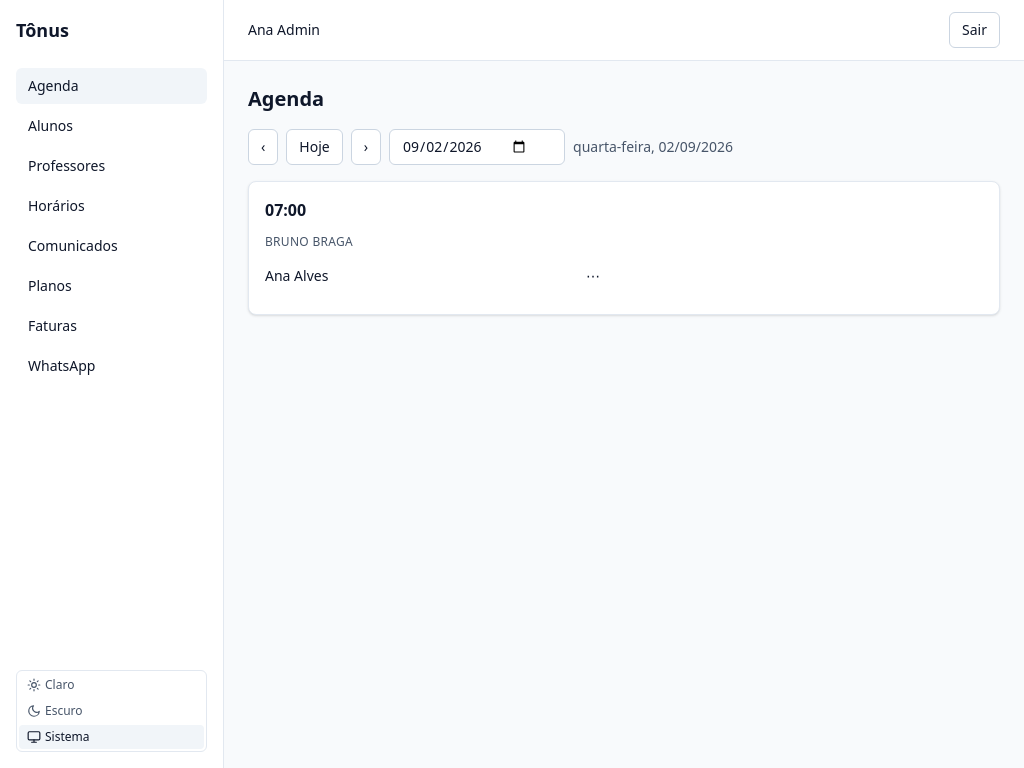
Test: diálogo › devolve o foco ao botão de ações ao fechar
This screenshot has width=1024, height=768.
Click the button named "Ações de Ana Alves".
click(593, 276)  # box [574,258,612,294]
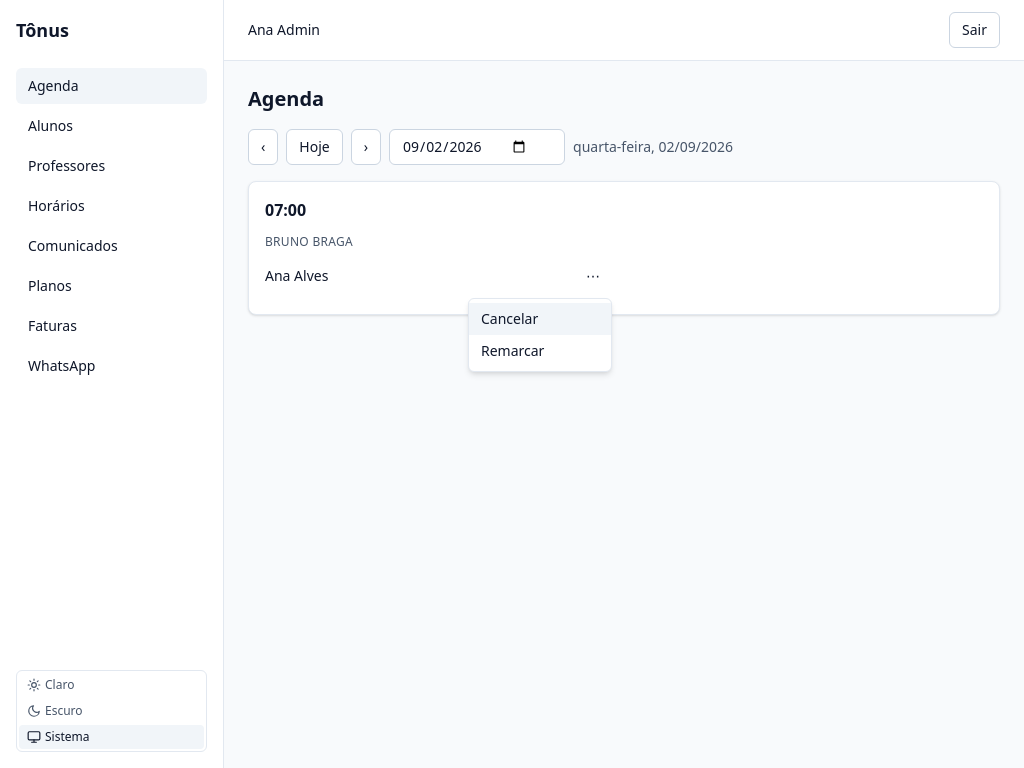
Click the menu item "Cancelar".
click(540, 319)  # box [469,303,611,335]
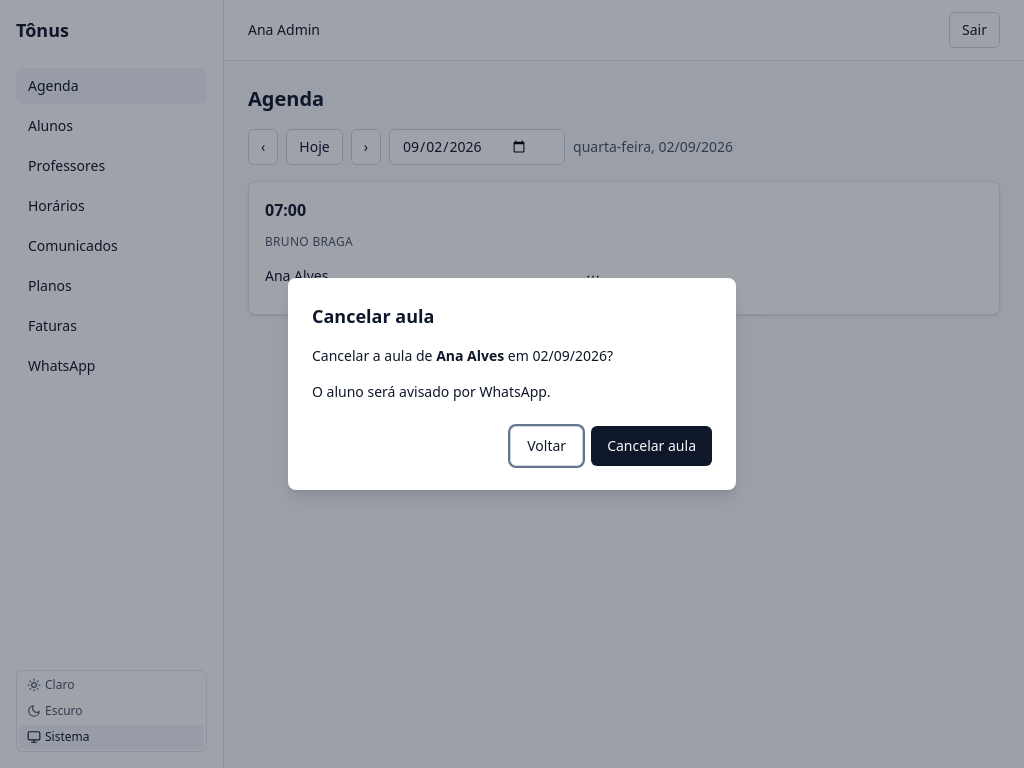
Now the dialog is shown, box [288,278,736,490]
Click the button "Voltar".
click(547, 446)  # box [510,426,583,466]
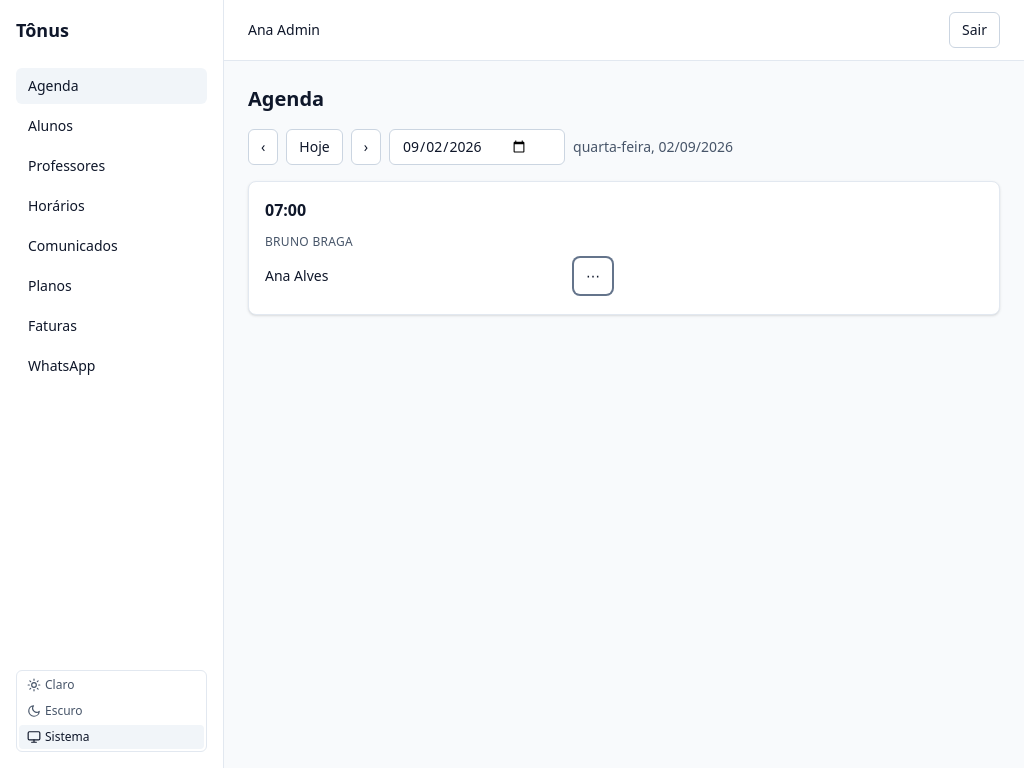
Now the dialog is gone
